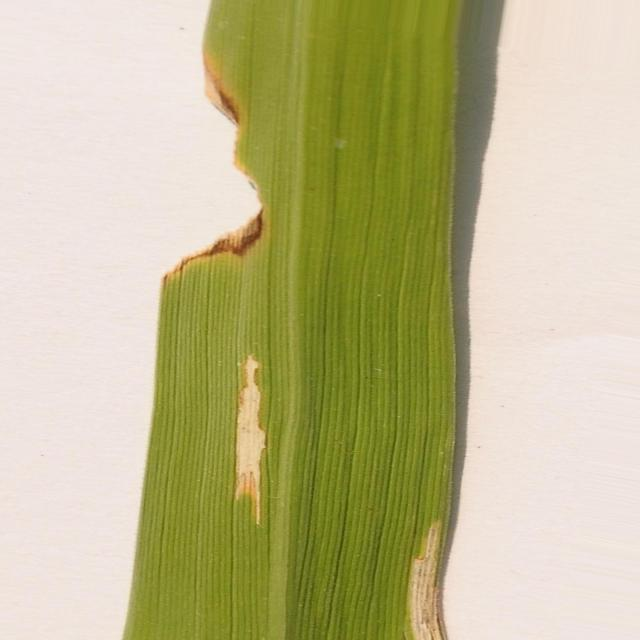Bacterial_Leaf_Blight: (234, 355, 266, 524), (408, 521, 444, 640)
